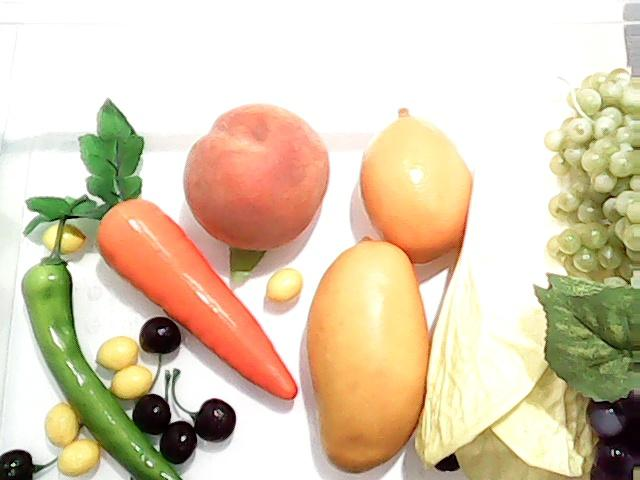carrot: (22, 99, 298, 398)
grape: (543, 66, 640, 296), (534, 272, 640, 480)
lemon: (361, 90, 499, 270)
mango: (304, 234, 428, 474)
napa cabbage: (430, 100, 640, 480)
peach: (182, 104, 330, 252)
pepper: (15, 219, 180, 480)
